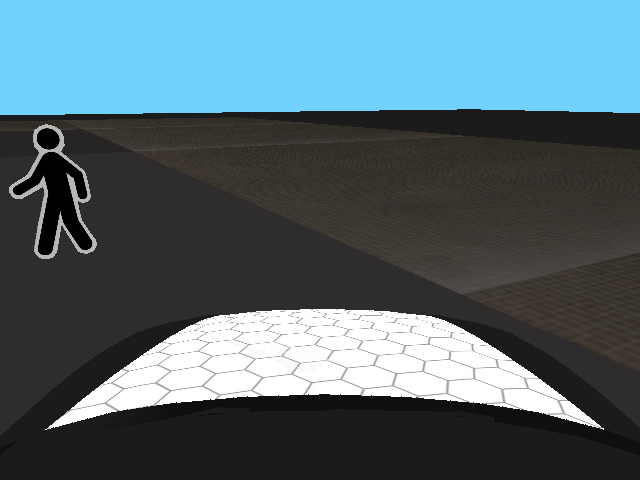pedestrian: (9, 123, 97, 259)
